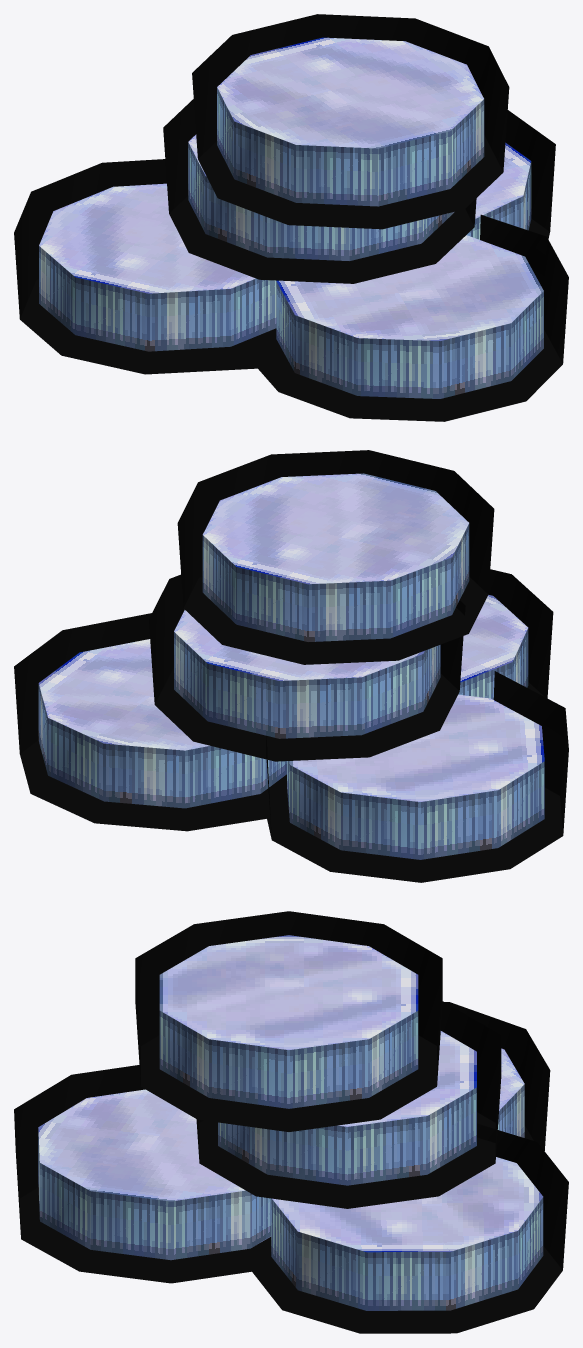
Rendered from COINPICKUP05.fbx.
The picture shows the model from 3 angles, top to bottom: view 1: azimuth 30°, elevation 25°; view 2: azimuth 150°, elevation 25°; view 3: azimuth 270°, elevation 25°; orthographic projection.
Visible parts, largest first — view 1: COINPICKUP05; view 2: COINPICKUP05; view 3: COINPICKUP05.
Part boxes in pixels (x1=…): COINPICKUP05: x1=14, y1=14, x2=568, y2=421; COINPICKUP05: x1=14, y1=450, x2=568, y2=882; COINPICKUP05: x1=14, y1=911, x2=568, y2=1333.
Size of the model in its own units: 4130 by 1845 by 3893.
Materials: 1 (1 with a texture image).
